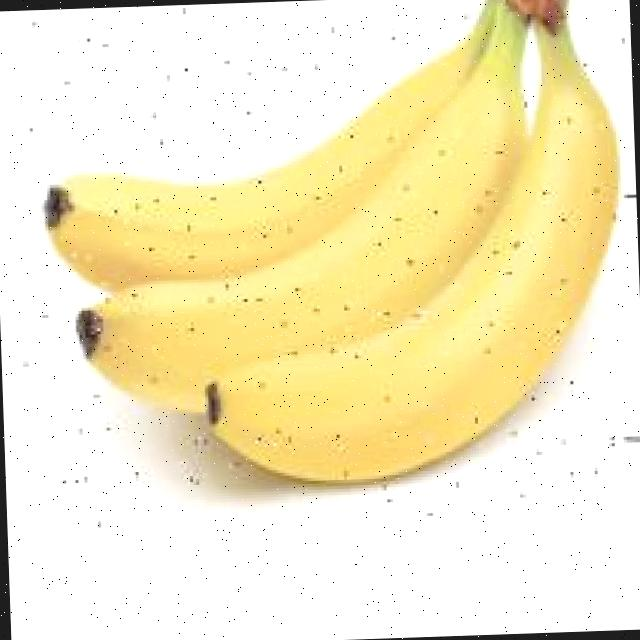banana: (46, 19, 607, 506)
